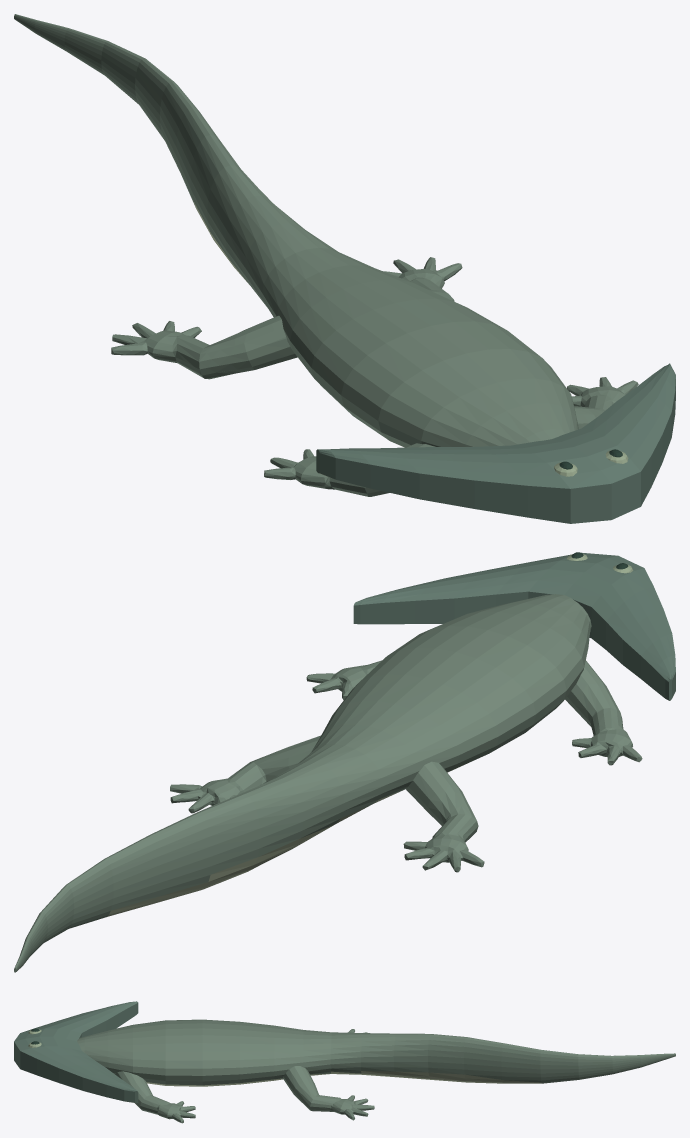
3 renders of one model, top to bottom at view 1: azimuth 30°, elevation 25°; view 2: azimuth 150°, elevation 25°; view 3: azimuth 270°, elevation 25°, orthographic. The views are drawn at different scales.
Visible parts, largest first — view 1: continuous-low-trunk-and-long-tapering-tail, boomerang-head-finite-thickness-explicit-cross-strips, hind-L-continuous-arm-palm-5-rounded-digits, fore-L-continuous-arm-palm-4-rounded-digits, fore-R-continuous-arm-palm-4-rounded-digits, hind-R-continuous-arm-palm-5-rounded-digits; view 2: continuous-low-trunk-and-long-tapering-tail, boomerang-head-finite-thickness-explicit-cross-strips, hind-L-continuous-arm-palm-5-rounded-digits, fore-L-continuous-arm-palm-4-rounded-digits, hind-R-continuous-arm-palm-5-rounded-digits, fore-R-continuous-arm-palm-4-rounded-digits; view 3: continuous-low-trunk-and-long-tapering-tail, boomerang-head-finite-thickness-explicit-cross-strips, hind-R-continuous-arm-palm-5-rounded-digits, fore-R-continuous-arm-palm-4-rounded-digits.
Boxes of the visible parts, box(x1,y1,x2,y2) form: continuous-low-trunk-and-long-tapering-tail: box(14, 14, 578, 447); boomerang-head-finite-thickness-explicit-cross-strips: box(316, 363, 675, 523); hind-L-continuous-arm-palm-5-rounded-digits: box(111, 315, 297, 379); fore-L-continuous-arm-palm-4-rounded-digits: box(264, 443, 435, 496); fore-R-continuous-arm-palm-4-rounded-digits: box(567, 377, 638, 428); hind-R-continuous-arm-palm-5-rounded-digits: box(383, 257, 462, 301); continuous-low-trunk-and-long-tapering-tail: box(14, 594, 591, 972); boomerang-head-finite-thickness-explicit-cross-strips: box(353, 552, 675, 700); hind-L-continuous-arm-palm-5-rounded-digits: box(403, 761, 484, 872); fore-L-continuous-arm-palm-4-rounded-digits: box(565, 660, 642, 765); hind-R-continuous-arm-palm-5-rounded-digits: box(170, 735, 320, 813); fore-R-continuous-arm-palm-4-rounded-digits: box(306, 660, 381, 699); continuous-low-trunk-and-long-tapering-tail: box(77, 1019, 675, 1086); boomerang-head-finite-thickness-explicit-cross-strips: box(14, 1001, 138, 1103); hind-R-continuous-arm-palm-5-rounded-digits: box(283, 1066, 374, 1120); fore-R-continuous-arm-palm-4-rounded-digits: box(115, 1071, 195, 1123).
Bounding box in the file's own units: 0.2555 × 0.0665 × 0.7502.
